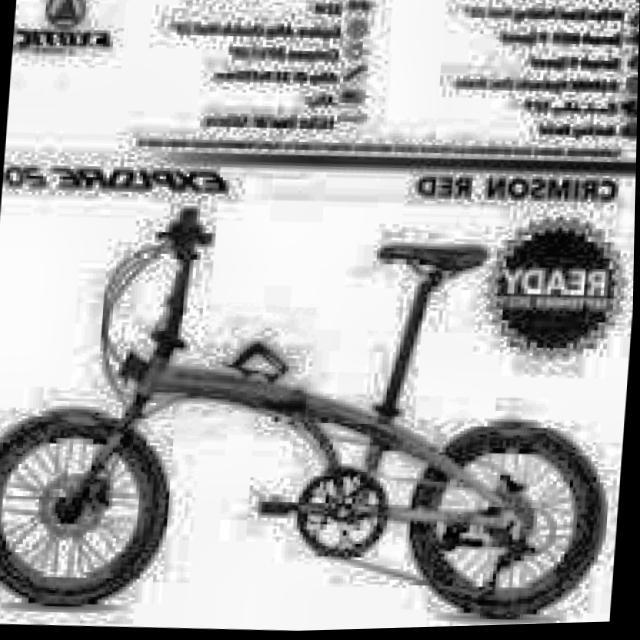bike: (0, 186, 634, 640)
